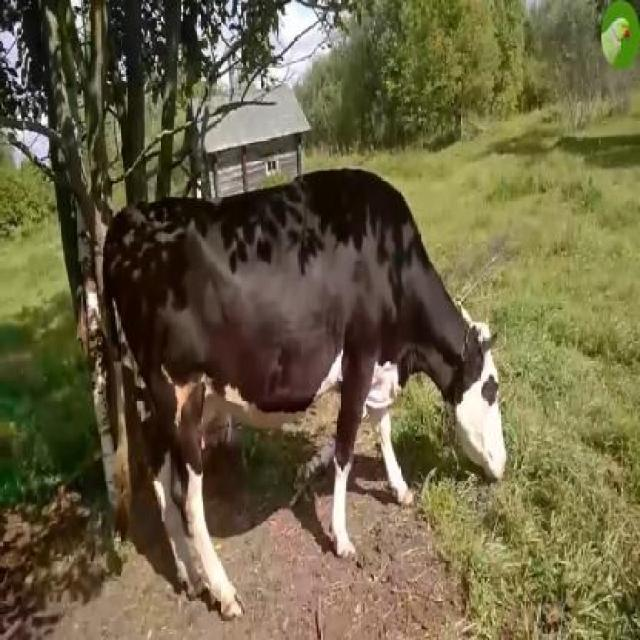Cow: (103, 169, 506, 606)
